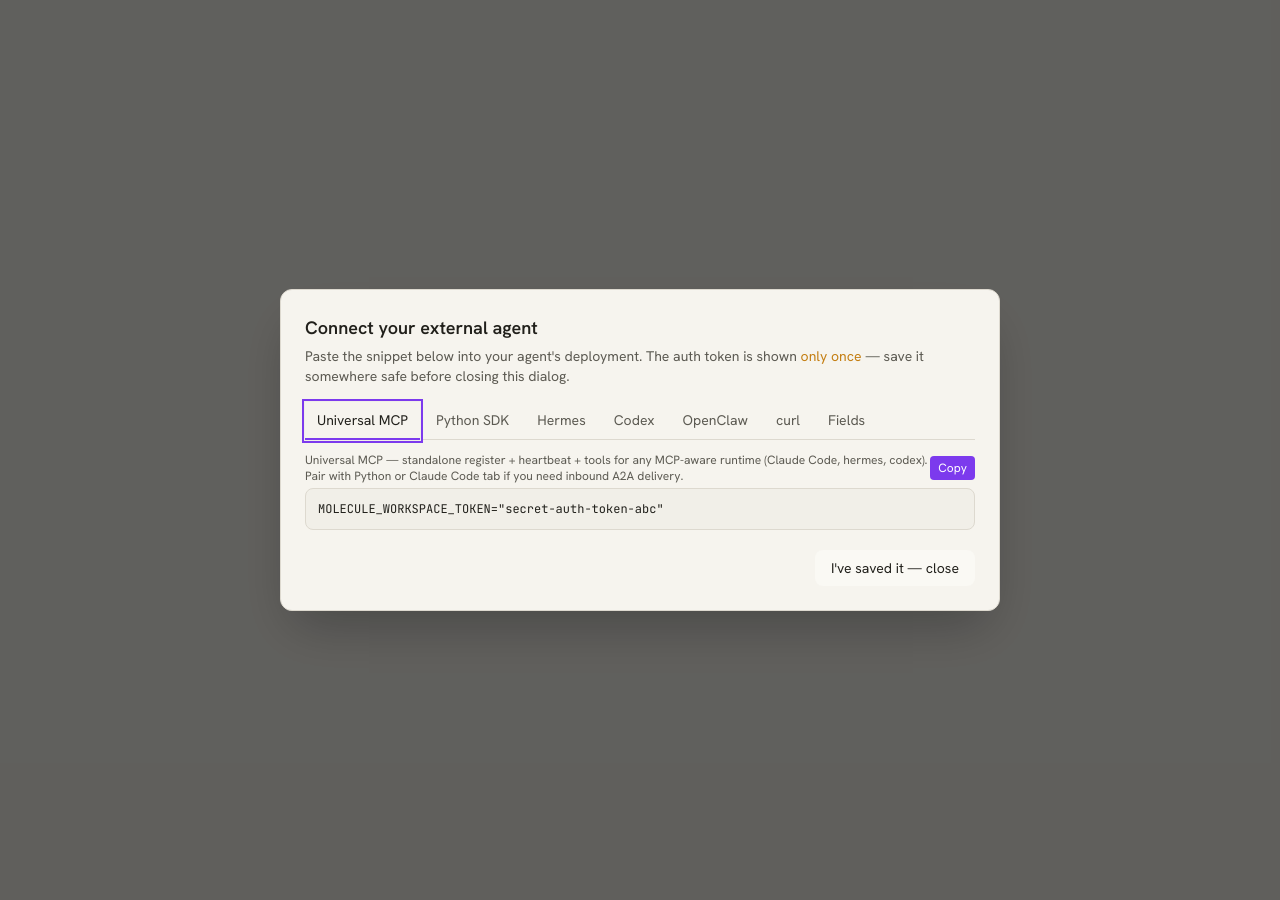
Test: ExternalConnectModal — tab switching › switches to the Python SDK tab and shows the snippet with stamped token
Click the tab "Python SDK" at (473, 421), box [424,402,521,440]
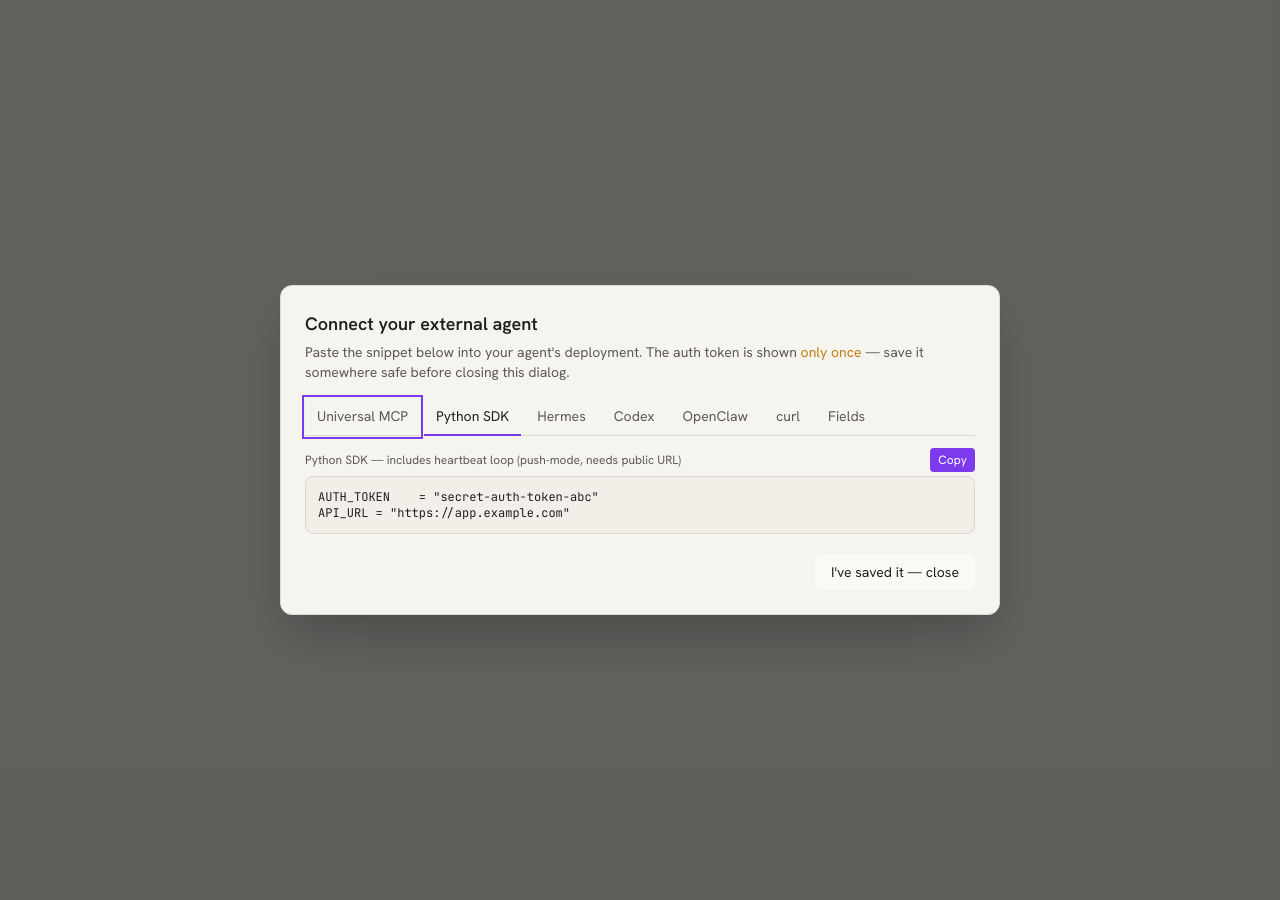
Expected: the text "secret-auth-token-abc" is shown, [318,489,599,521]
Expected: the text "AUTH_TOKEN" is shown, [318,489,599,521]
